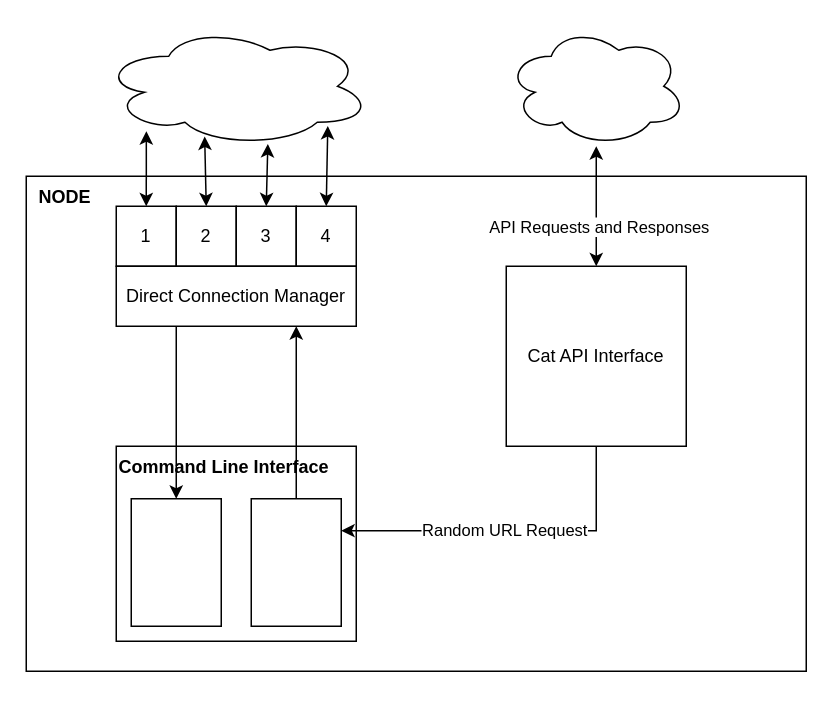
This 833x710 diagram has some shape labels left out. The centre of each missing label's shape, as x and y in pixels:
Cat API: [595,85]
Peer-to-peer Network: [235,85]
Received Message Handler: [175,561]
Send Message Handler: [295,561]
